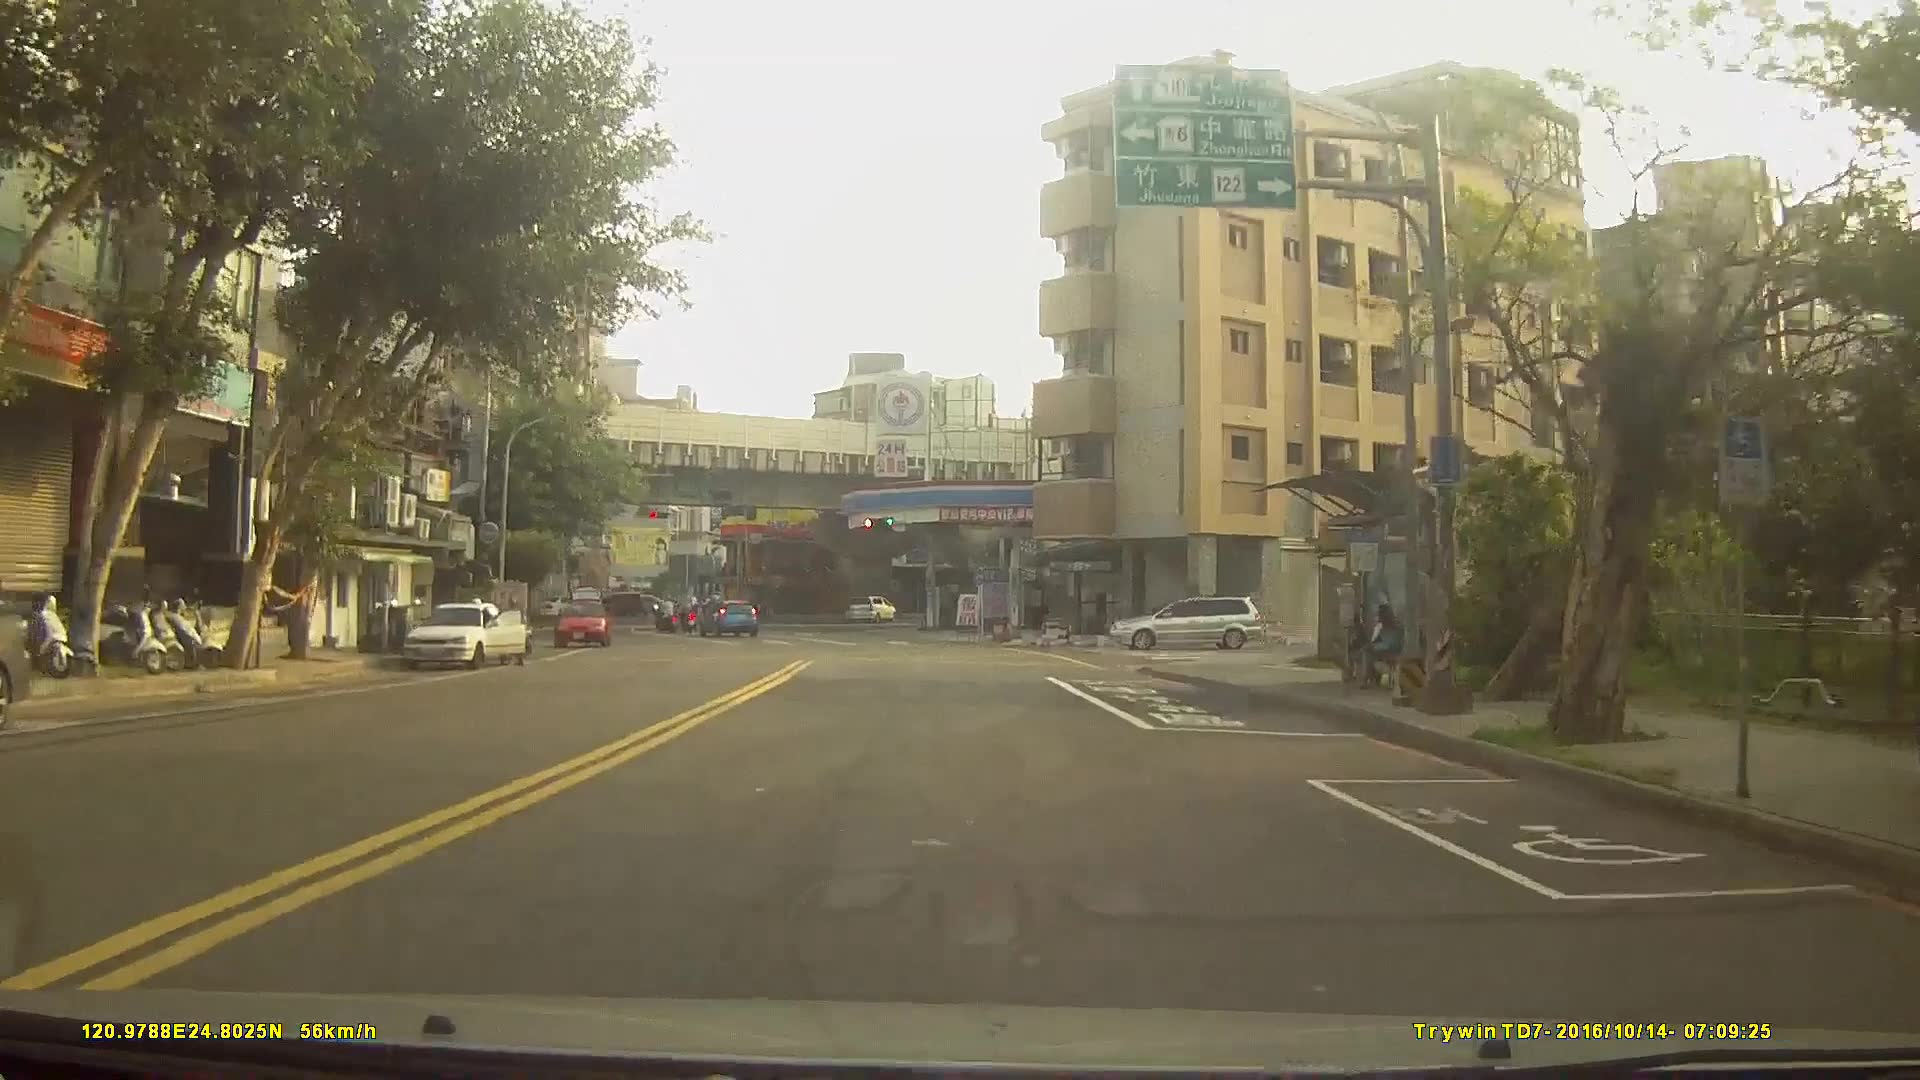pedestrian: (1364, 602, 1406, 699)
rider: (653, 595, 680, 636)
vehicle: (402, 597, 527, 671), (1109, 596, 1262, 653), (553, 597, 613, 648), (694, 596, 759, 638), (584, 590, 641, 620), (845, 596, 896, 625)
